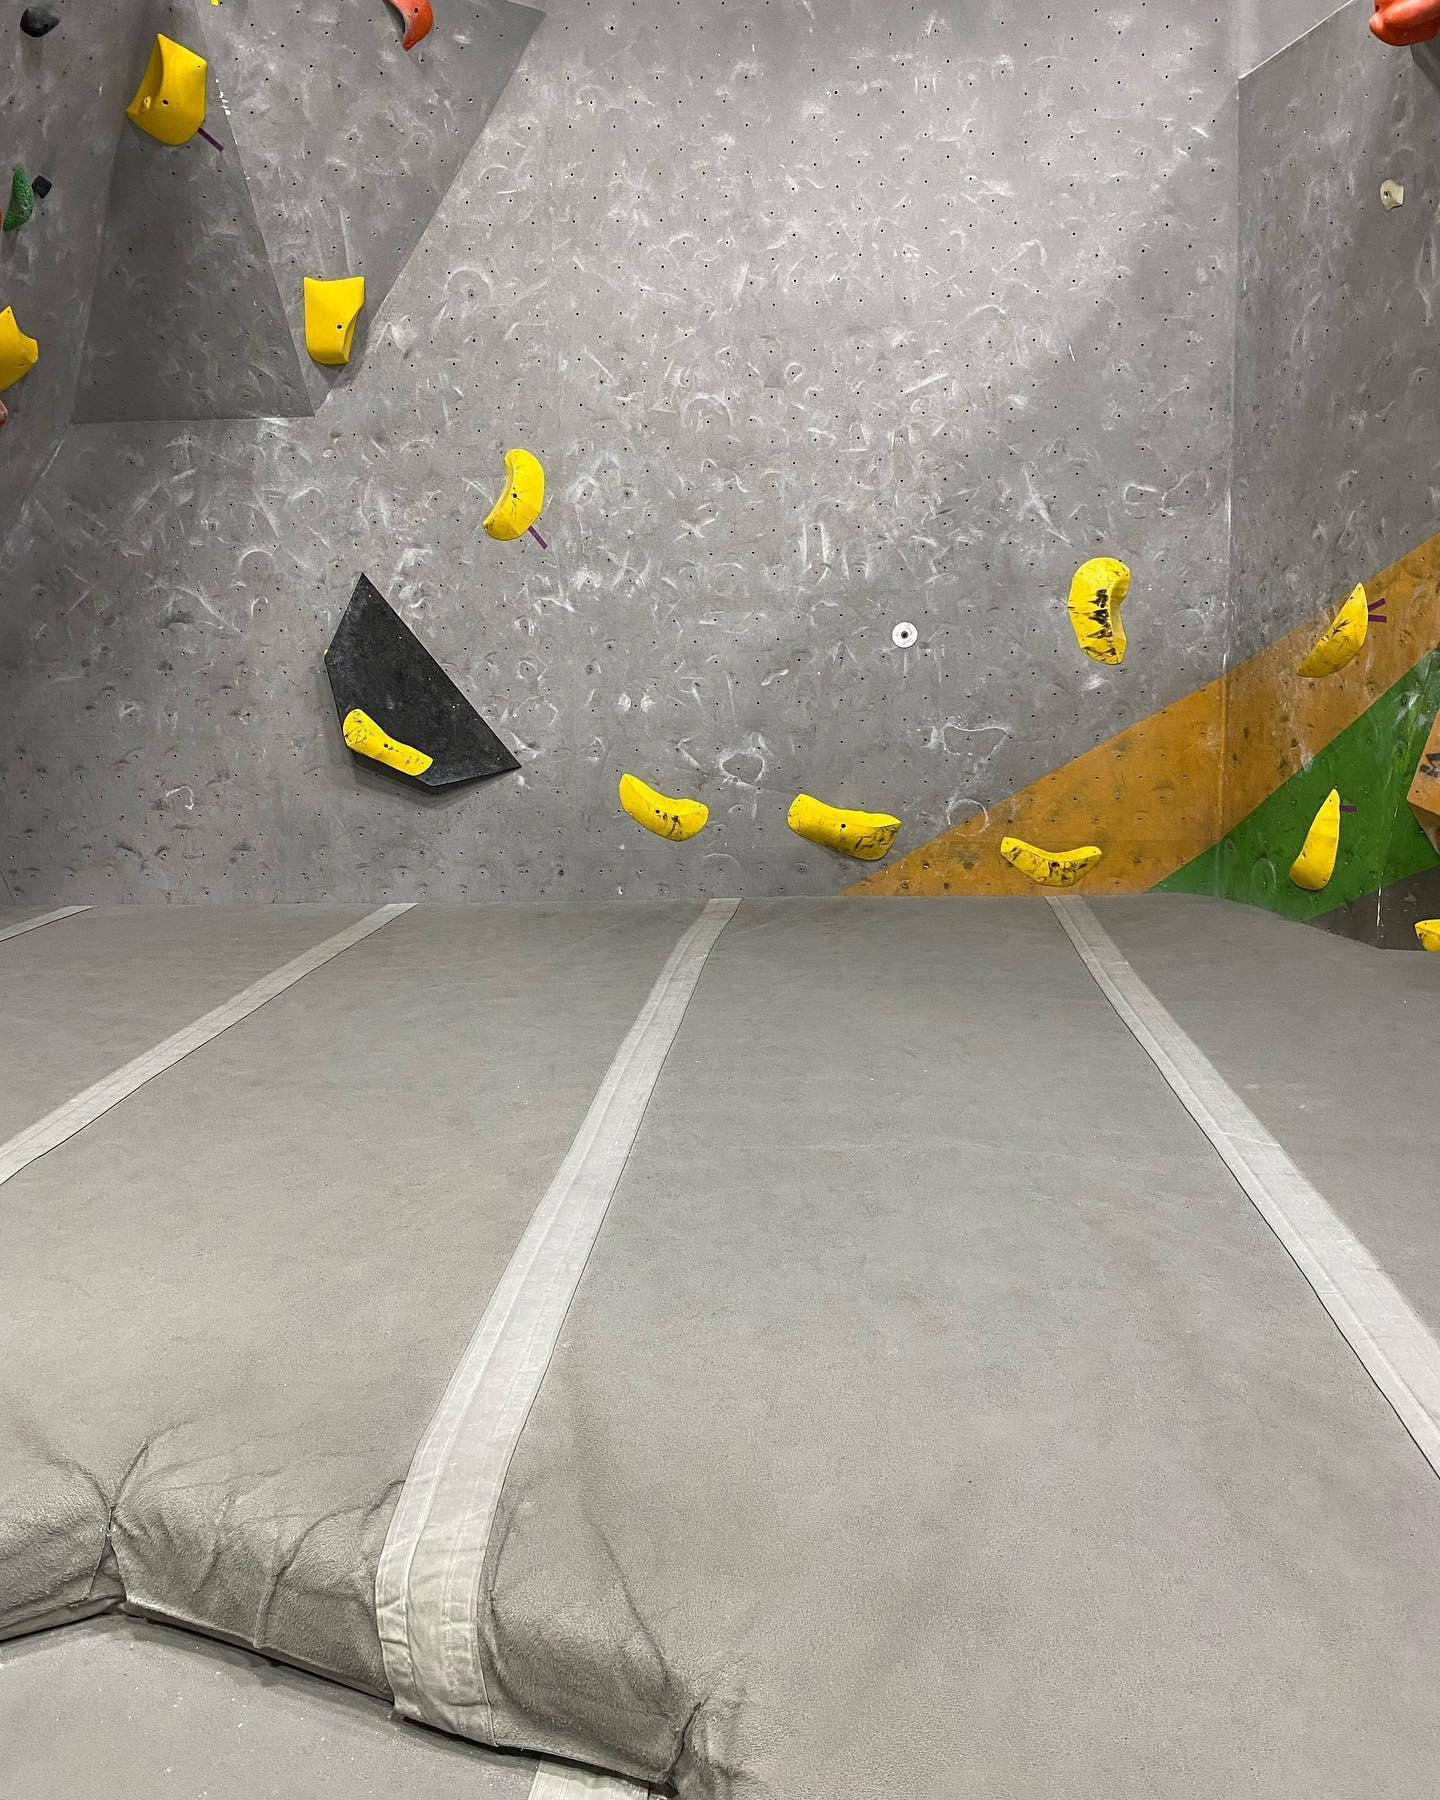hold: (125, 32, 209, 145), (788, 793, 902, 861), (1067, 555, 1131, 666), (1295, 582, 1368, 677), (342, 708, 435, 776), (619, 773, 708, 842), (480, 448, 544, 541), (304, 275, 366, 364), (1287, 788, 1340, 890), (999, 836, 1104, 888), (0, 306, 41, 391), (1369, 0, 1440, 46), (382, 0, 433, 51), (3, 168, 32, 231), (19, 7, 60, 37), (1378, 178, 1406, 213), (1414, 918, 1440, 952), (890, 620, 918, 648), (31, 175, 53, 198), (0, 400, 9, 428), (0, 207, 3, 231), (322, 648, 329, 657)
volume: (323, 570, 523, 786), (1406, 705, 1440, 858)
